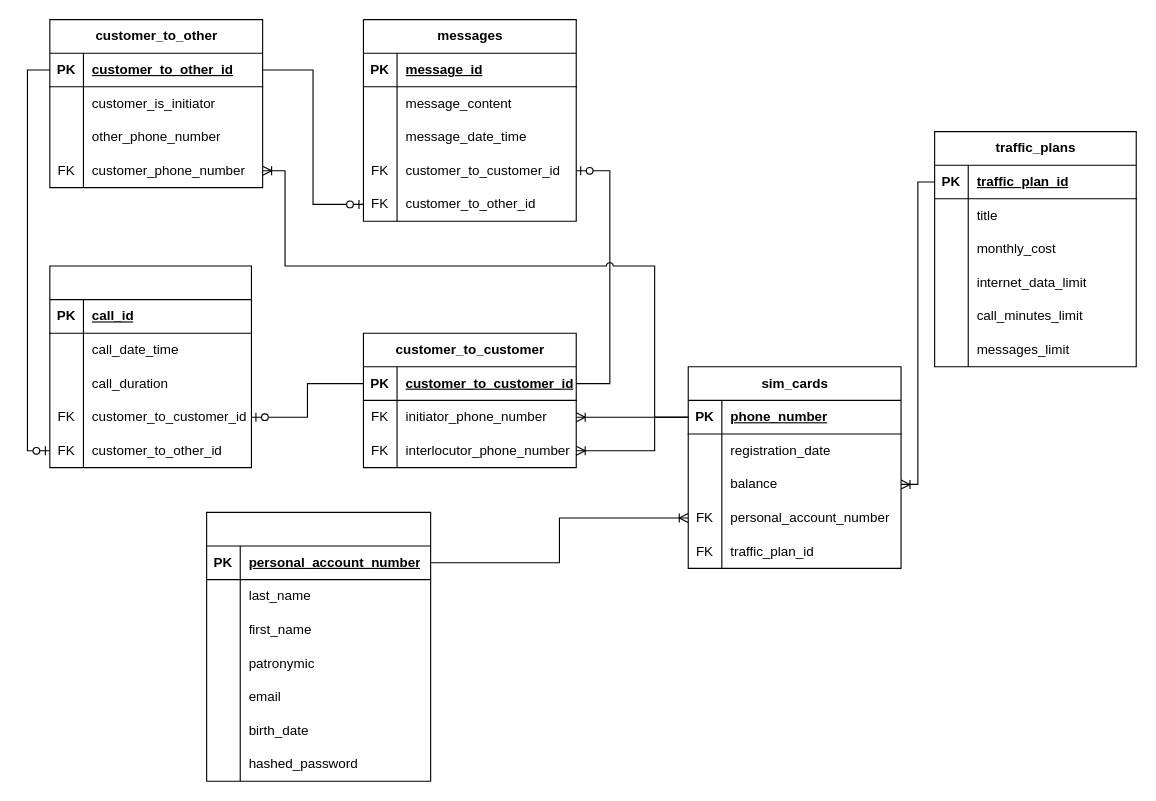
Some shapes in this 1156 by 801 pixel diagram are drawn without their labels. The shapes that lost their labels are listed below. From the top down, each one's box as (x1, y1, x2, y2) in pixels, then its label:
(49, 265, 251, 468): calls
(206, 511, 431, 781): customers
